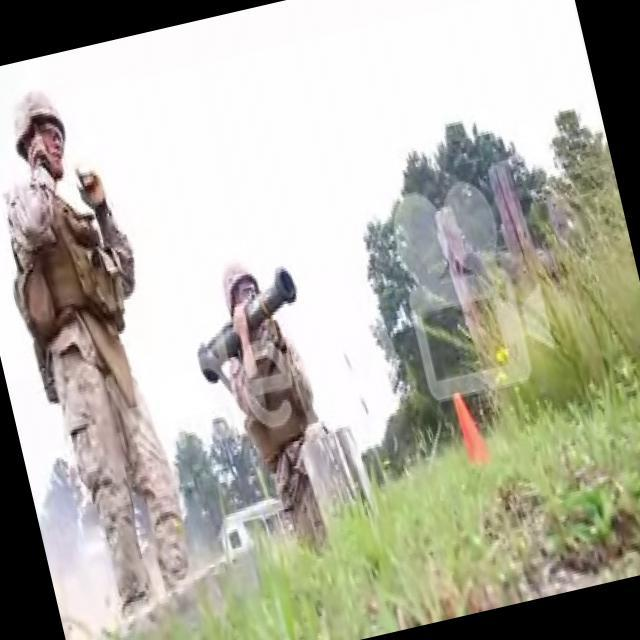rocket: (180, 264, 312, 392)
